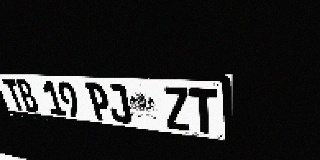1: (40, 81, 66, 116)
9: (56, 81, 83, 118)
B: (14, 79, 41, 113)
J: (104, 84, 133, 124)
P: (85, 83, 113, 122)
T: (189, 88, 218, 135), (1, 79, 27, 111)
Z: (162, 86, 191, 131)
